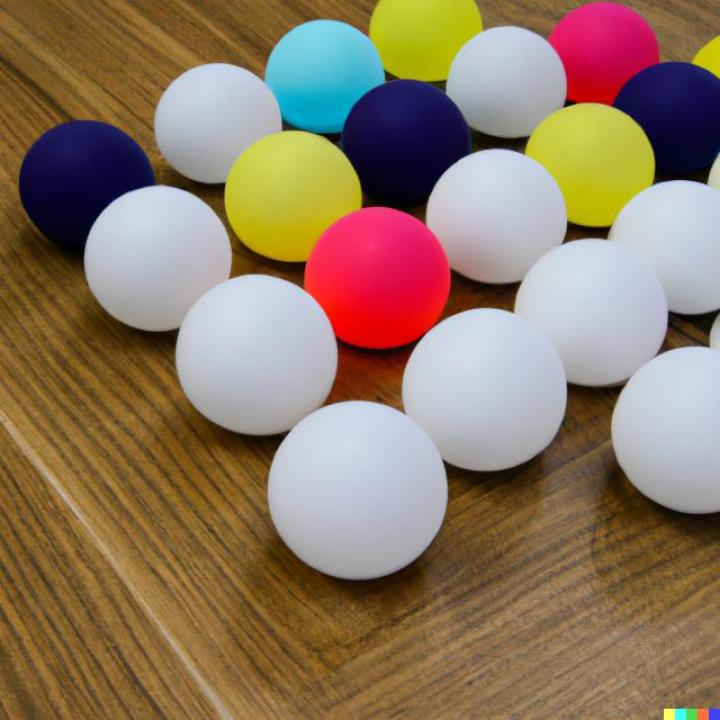white: (268, 400, 448, 580), (403, 309, 568, 472), (176, 274, 337, 436), (517, 237, 669, 386), (86, 186, 231, 332), (426, 150, 568, 283), (611, 346, 720, 514), (155, 61, 282, 185), (446, 26, 568, 139)
